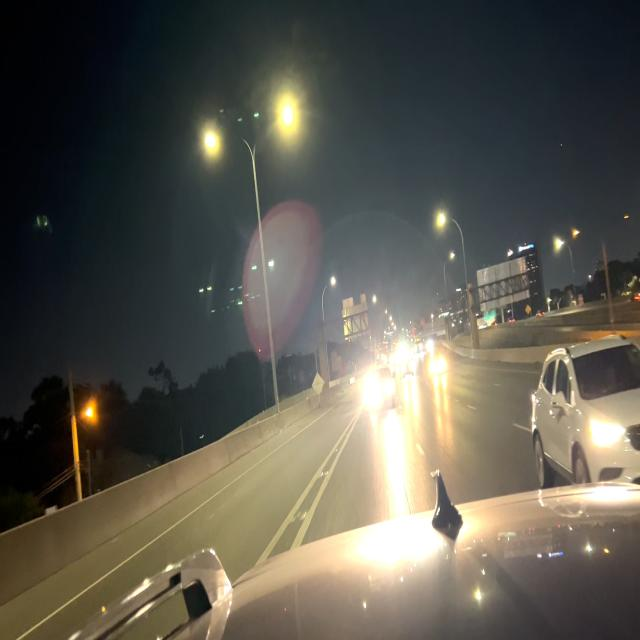back-of-sign: (476, 255, 529, 313), (341, 292, 371, 343), (312, 371, 325, 400)
